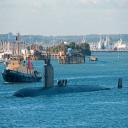submarine: (11, 61, 128, 99)
